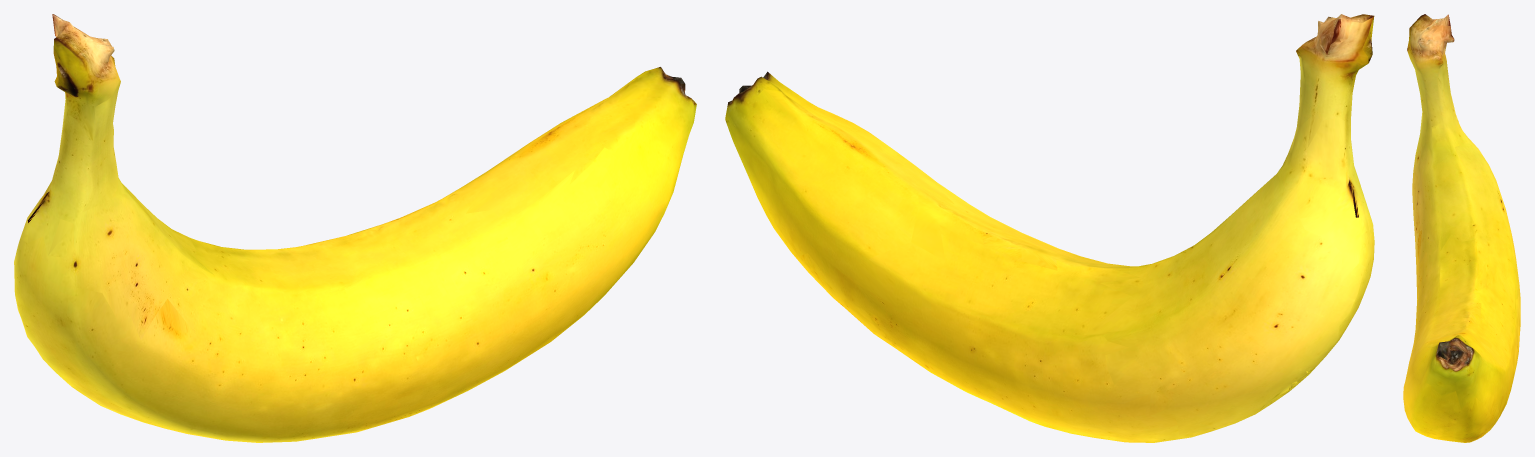
File: banana-v1-transformed.glb
3 renders of one model, left to right at view 1: azimuth 30°, elevation 25°; view 2: azimuth 150°, elevation 25°; view 3: azimuth 270°, elevation 25°, orthographic. The views are drawn at different scales.
Visible parts, largest first — view 1: banana; view 2: banana; view 3: banana.
Boxes of the visible parts, x1,y1,x2,y2 form: banana: (14,14,696,442); banana: (725,14,1374,442); banana: (1403,14,1520,442).
Size of the model in its own units: 6.75 by 4.7 by 1.6.
1 material, 1 textured.
